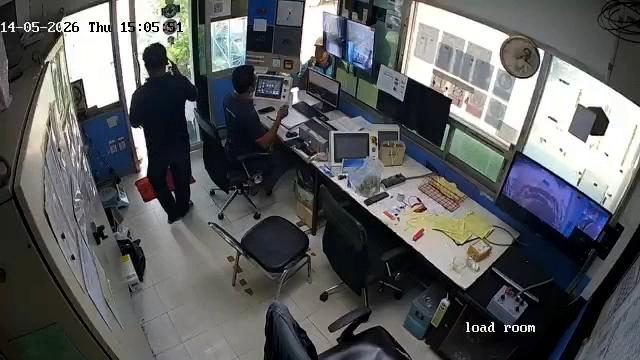Head: (142, 42, 169, 73), (232, 65, 258, 95)
People: (129, 40, 198, 226), (225, 63, 289, 161)
Phone: (258, 106, 274, 114)
